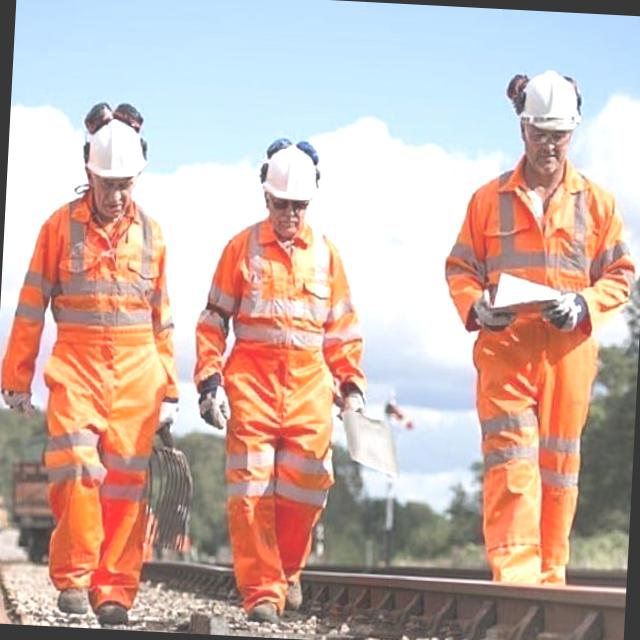goggles: (255, 189, 317, 223), (520, 122, 581, 156)
helmet: (79, 116, 151, 196), (518, 68, 588, 148), (254, 145, 326, 219)
no-goggles: (73, 172, 143, 211)
vest: (476, 160, 609, 432), (32, 202, 170, 452), (218, 223, 342, 474)
